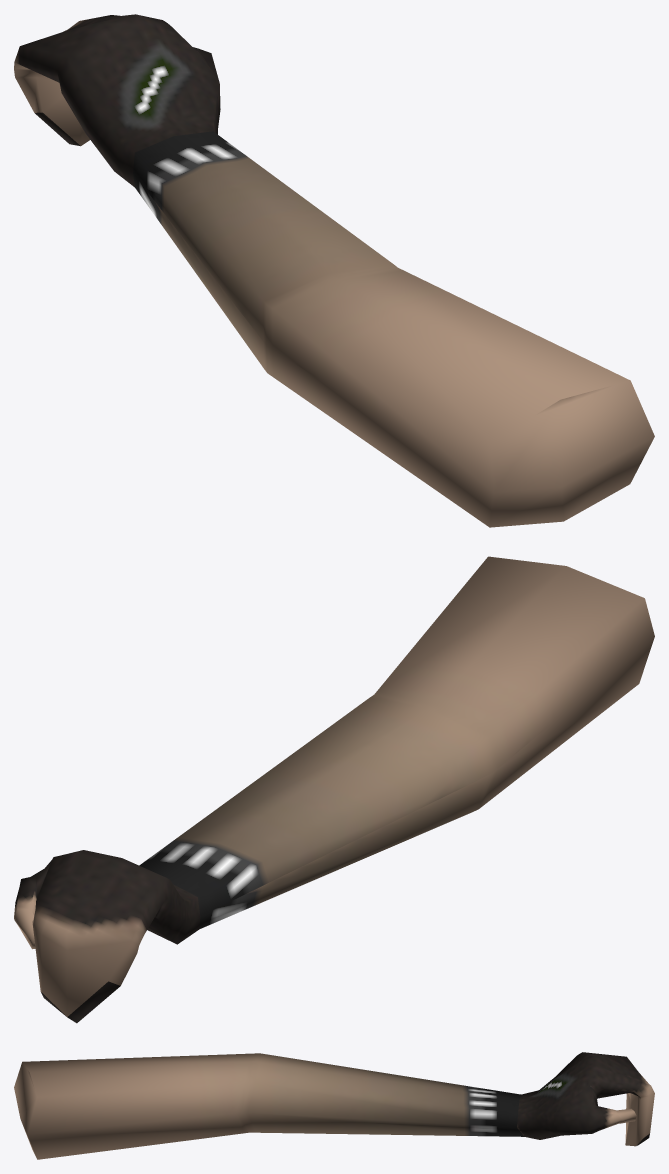
The model's file is playerArm.gltf.
3 views of the same model, one above another, from view 1: azimuth 30°, elevation 25°; view 2: azimuth 150°, elevation 25°; view 3: azimuth 270°, elevation 25° (orthographic). The views are drawn at different scales.
Visible parts, largest first — view 1: hand; view 2: hand; view 3: hand.
Part boxes in pixels (bbox=[...]): hand: bbox=[14, 14, 654, 527]; hand: bbox=[14, 556, 654, 1023]; hand: bbox=[14, 1052, 654, 1159].
Bounding box in the file's own units: 2.08 × 1.38 × 8.55.
1 material, 1 textured.
